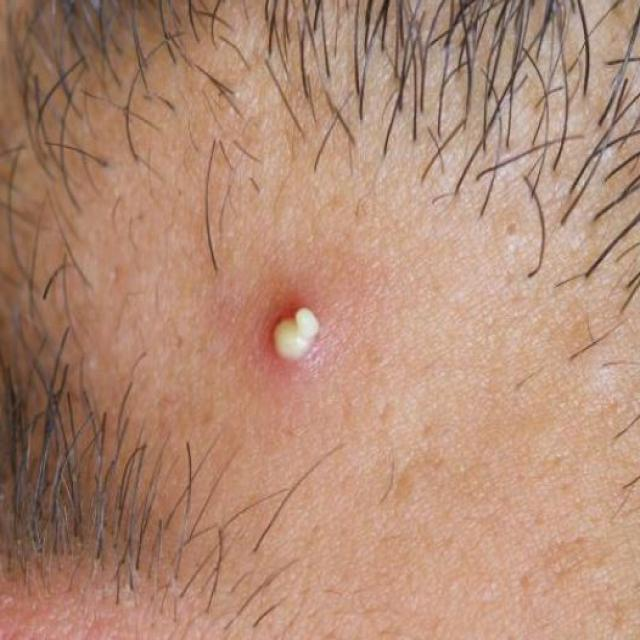pustule: (237, 281, 367, 394)
